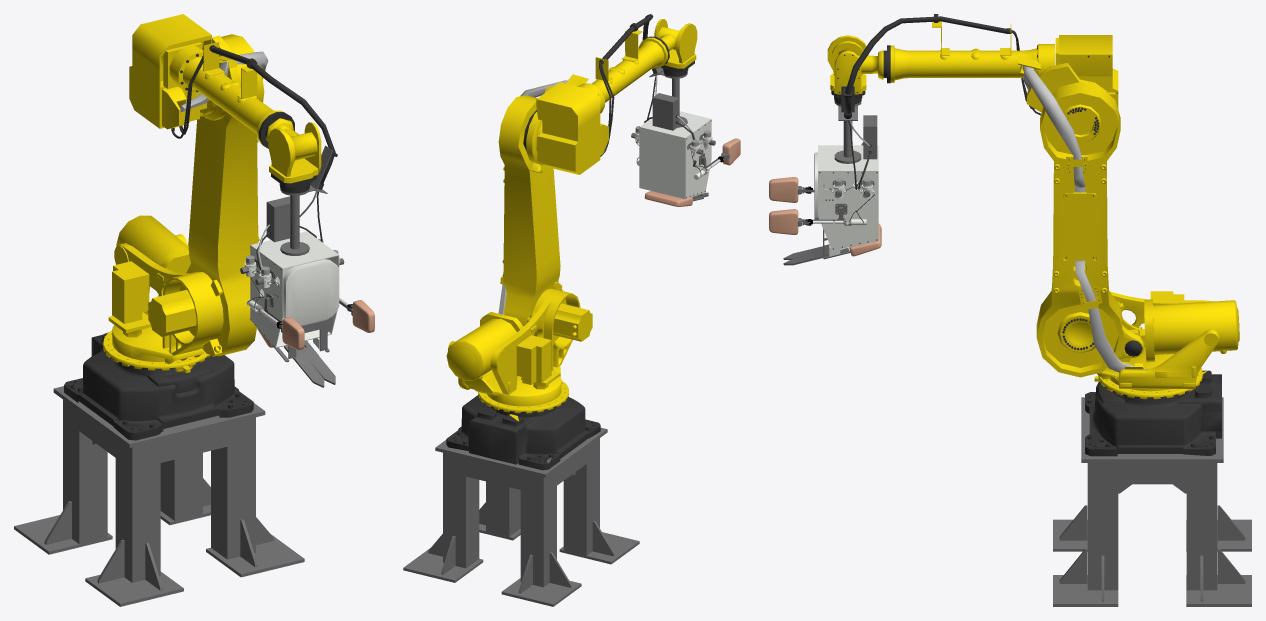
File: JXB.FBX
The picture shows the model from 3 angles, left to right: view 1: azimuth 30°, elevation 25°; view 2: azimuth 150°, elevation 25°; view 3: azimuth 270°, elevation 25°; orthographic projection. The views are drawn at different scales.
Visible parts, largest first — view 1: JXB_01, JXB_dizuo; view 2: JXB_01, JXB_dizuo; view 3: JXB_01, JXB_dizuo.
Boxes of the visible parts, x1,y1,x2,y2 form: JXB_01: [64, 14, 335, 440]; JXB_dizuo: [14, 145, 374, 606]; JXB_01: [446, 14, 697, 470]; JXB_dizuo: [403, 67, 740, 606]; JXB_01: [827, 14, 1239, 456]; JXB_dizuo: [769, 86, 1251, 606].
Size of the model in its own units: 110 by 329 by 266.
